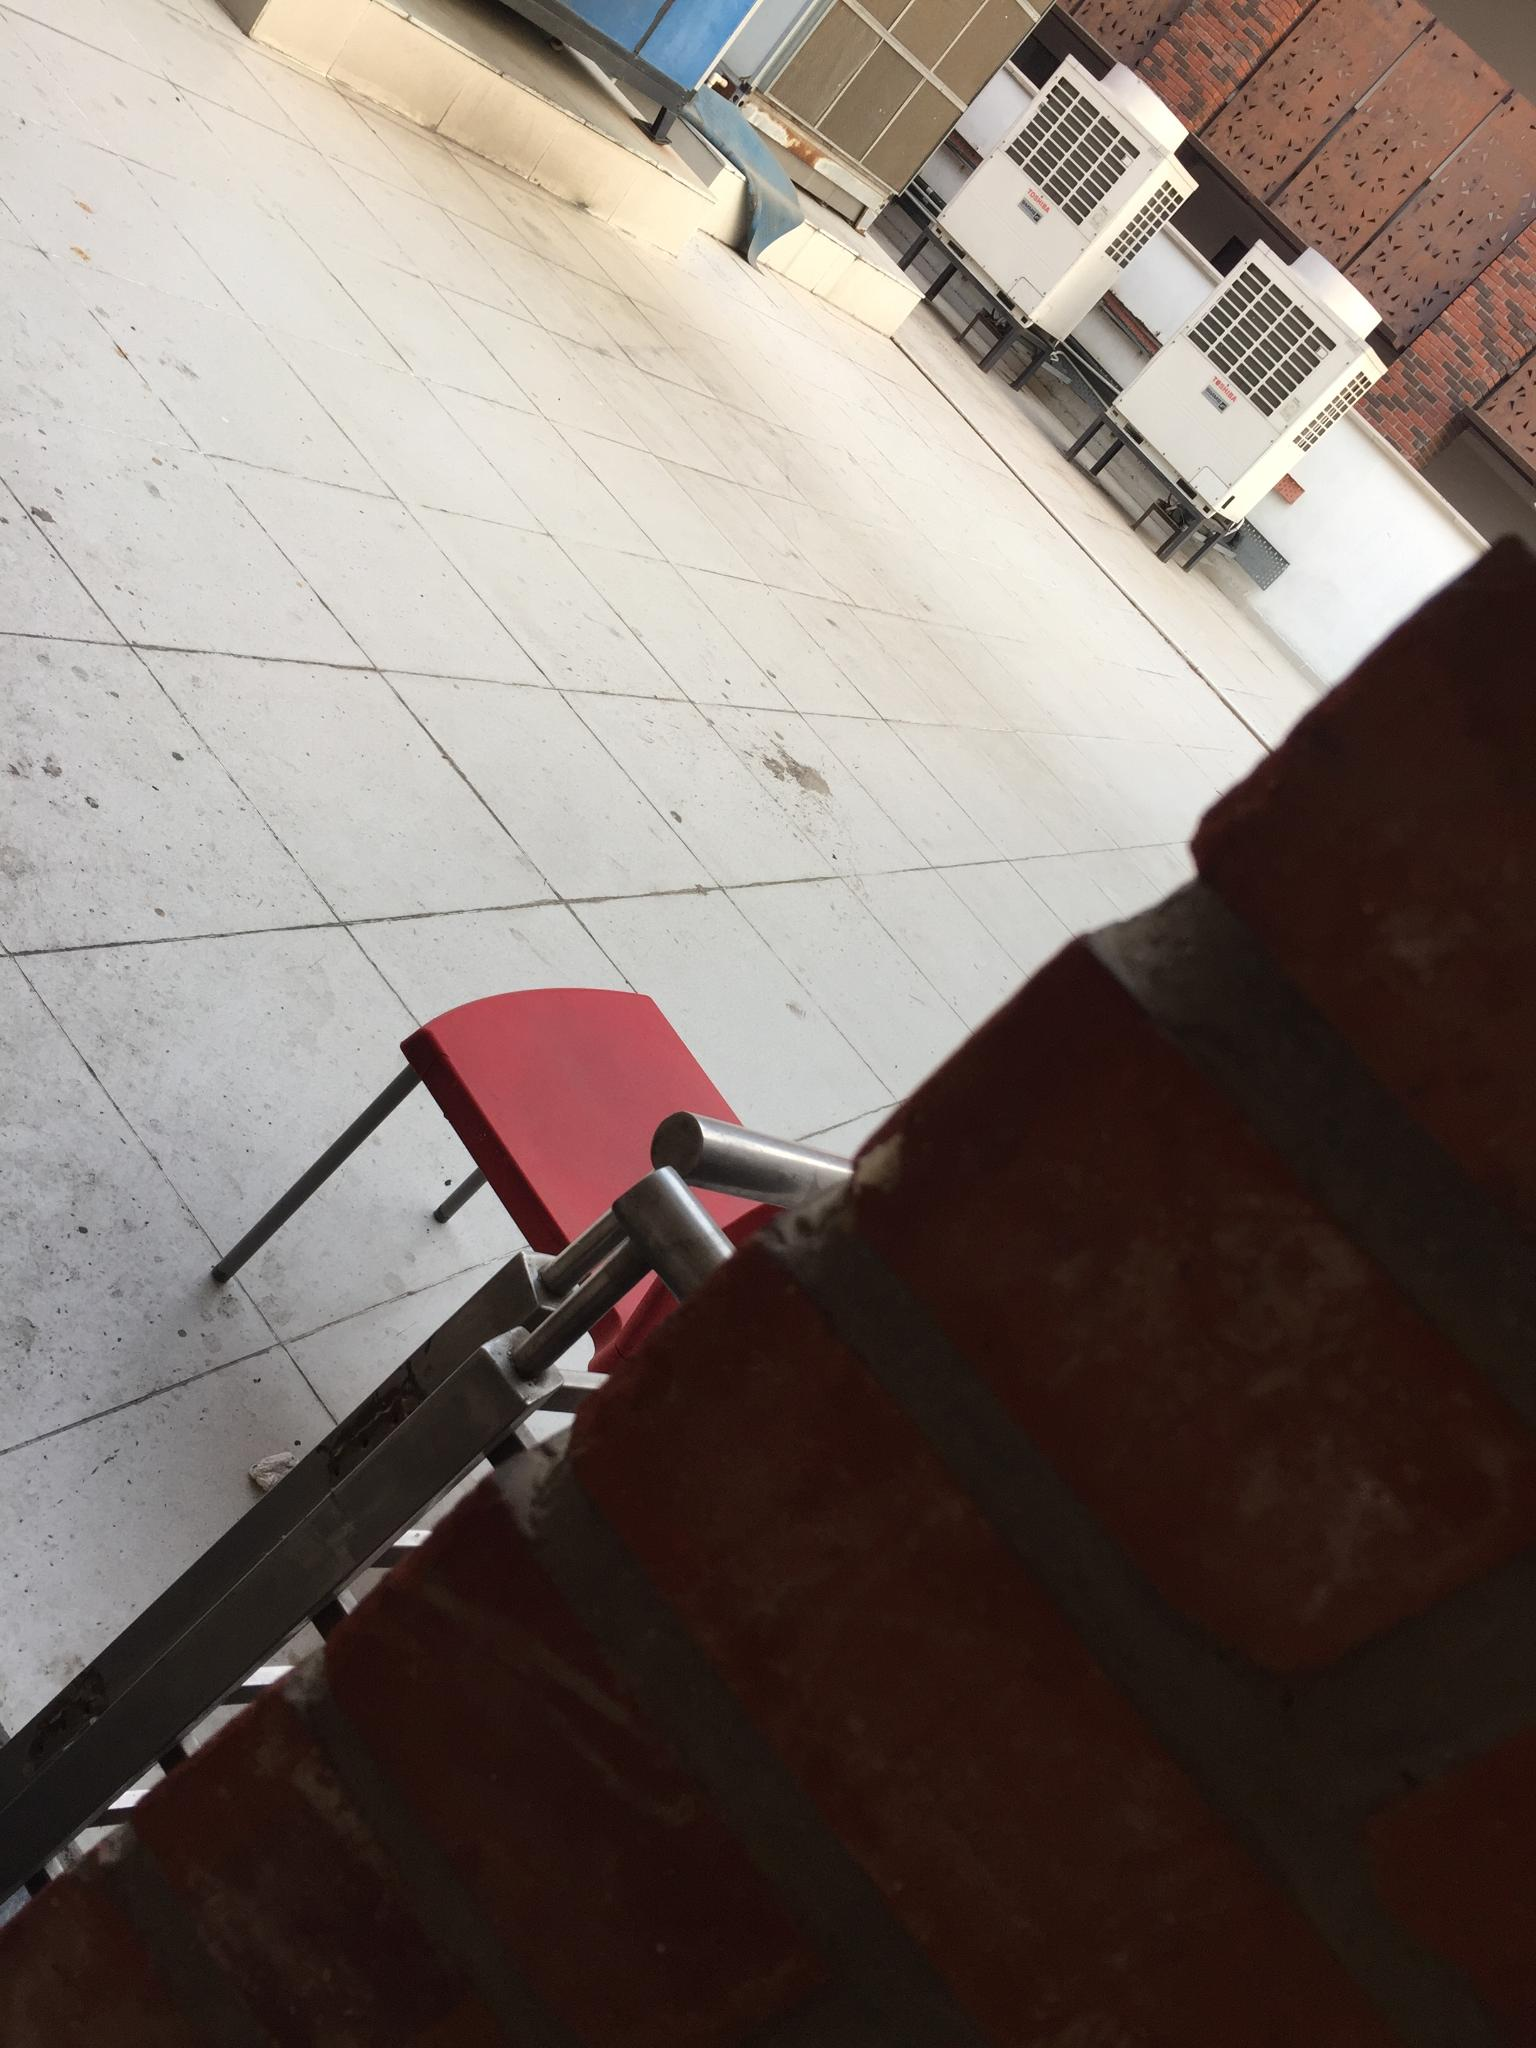chair: (197, 972, 1147, 1667)
